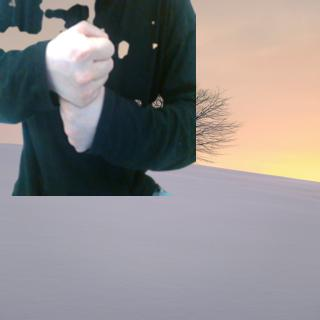CAREFUL: (40, 17, 118, 160)
